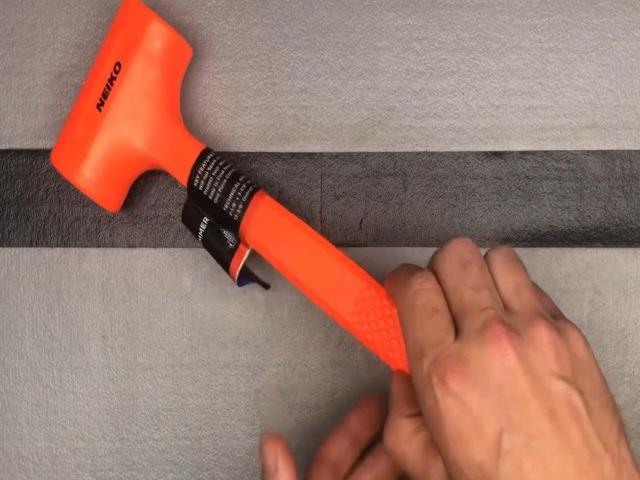hammer: (51, 0, 561, 468)
